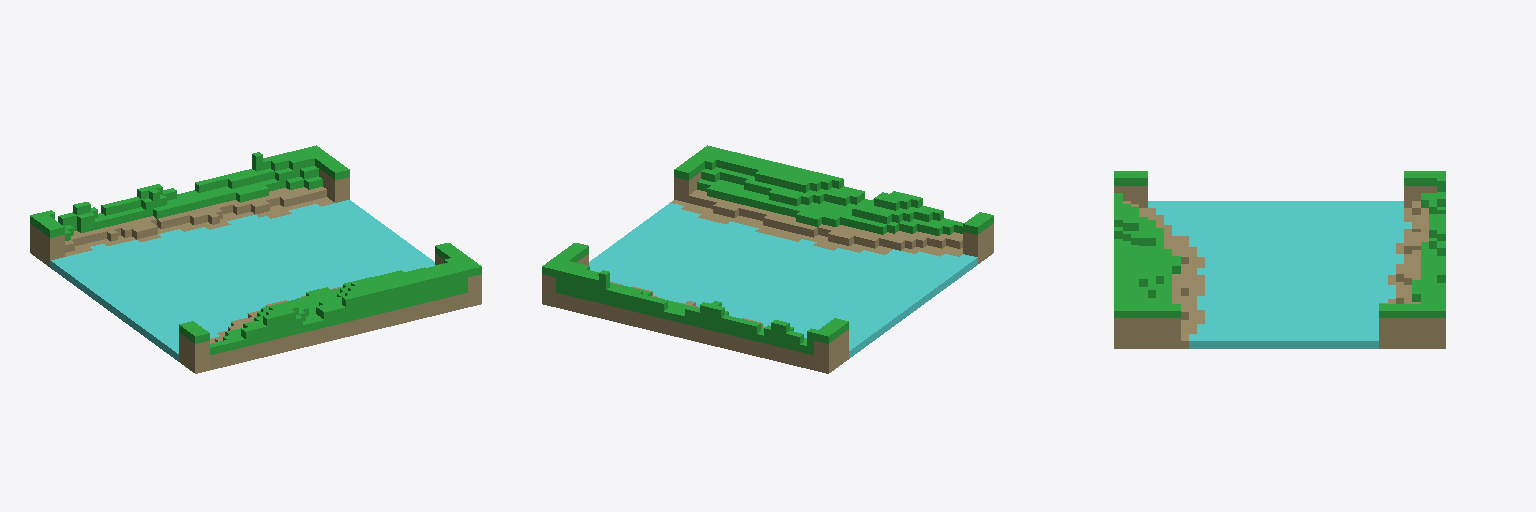
The picture shows the model from 3 angles: view 1: azimuth 30°, elevation 25°; view 2: azimuth 150°, elevation 25°; view 3: azimuth 270°, elevation 25°; orthographic projection.
Parts seen in each view (by area): view 1: object 1; view 2: object 1; view 3: object 1.
Boxes of the visible parts, box(x1,y1,x2,y2) form: object 1: box(30, 145, 481, 373); object 1: box(542, 145, 993, 373); object 1: box(1114, 171, 1445, 348).
Bounding box in the file's own units: 4 × 0.6 × 4.
Materials: 1 (1 with a texture image).